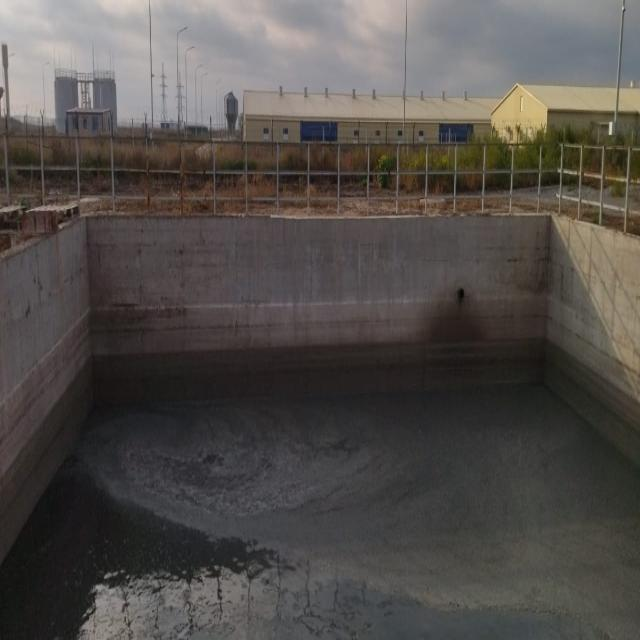fence: (0, 135, 640, 239)
liquid: (0, 384, 640, 640)
